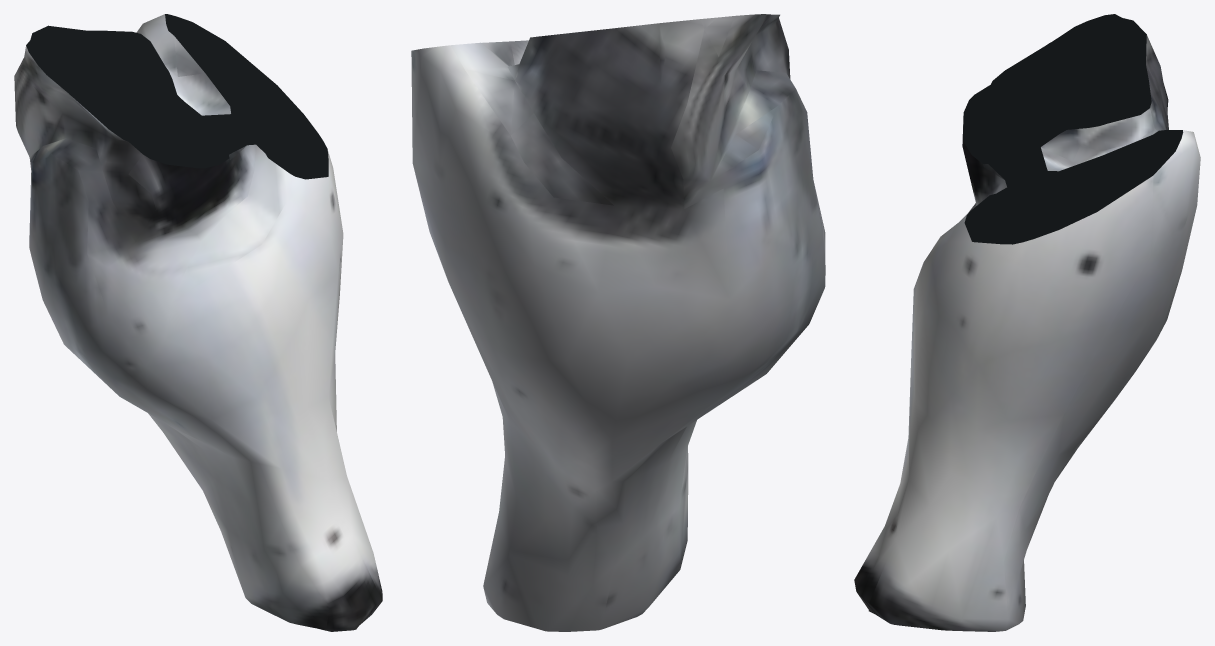
Rendered from left_forearm.obj.
3 renders of one model, left to right at view 1: azimuth 30°, elevation 25°; view 2: azimuth 150°, elevation 25°; view 3: azimuth 270°, elevation 25°, orthographic. The views are drawn at different scales.
Visible parts, largest first — view 1: left_forearm; view 2: left_forearm; view 3: left_forearm.
Boxes of the visible parts, x1,y1,x2,y2 form: left_forearm: [14, 14, 382, 631]; left_forearm: [411, 14, 825, 631]; left_forearm: [854, 14, 1200, 631].
Bounding box in the file's own units: 0.1692 × 0.3234 × 0.2005.
Materials: 2 (1 with a texture image).
